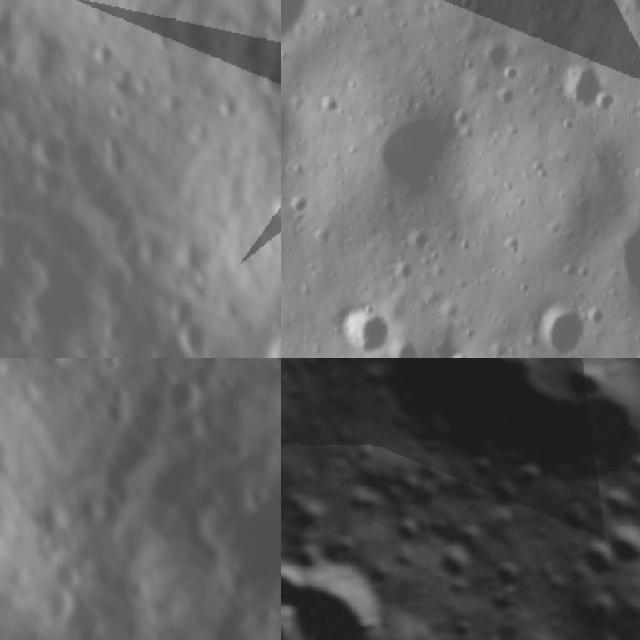crater: (348, 94, 468, 216), (281, 542, 412, 640), (554, 578, 629, 640), (553, 52, 619, 121), (525, 297, 597, 358), (563, 522, 628, 588), (542, 481, 606, 544), (20, 574, 85, 636), (592, 501, 640, 580), (333, 299, 397, 358), (178, 468, 233, 525), (554, 358, 616, 407), (427, 533, 482, 588), (155, 365, 208, 421), (589, 471, 640, 529), (171, 309, 231, 358), (476, 466, 530, 520), (281, 528, 332, 585), (15, 222, 68, 274), (281, 546, 316, 623), (381, 506, 432, 556), (202, 80, 252, 130), (383, 376, 432, 426), (31, 122, 78, 173), (455, 447, 503, 492), (84, 28, 131, 73), (475, 30, 523, 74), (485, 548, 530, 591), (250, 49, 281, 108), (352, 358, 395, 397), (508, 452, 548, 492), (281, 98, 301, 171), (287, 358, 332, 381), (0, 358, 27, 392), (620, 443, 640, 487), (281, 406, 295, 460), (473, 620, 510, 640), (608, 0, 640, 22)
